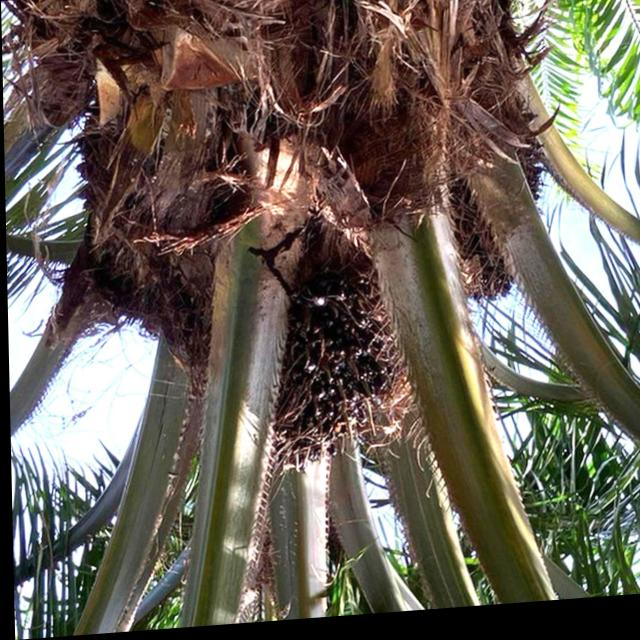unripe: (268, 283, 411, 467)
